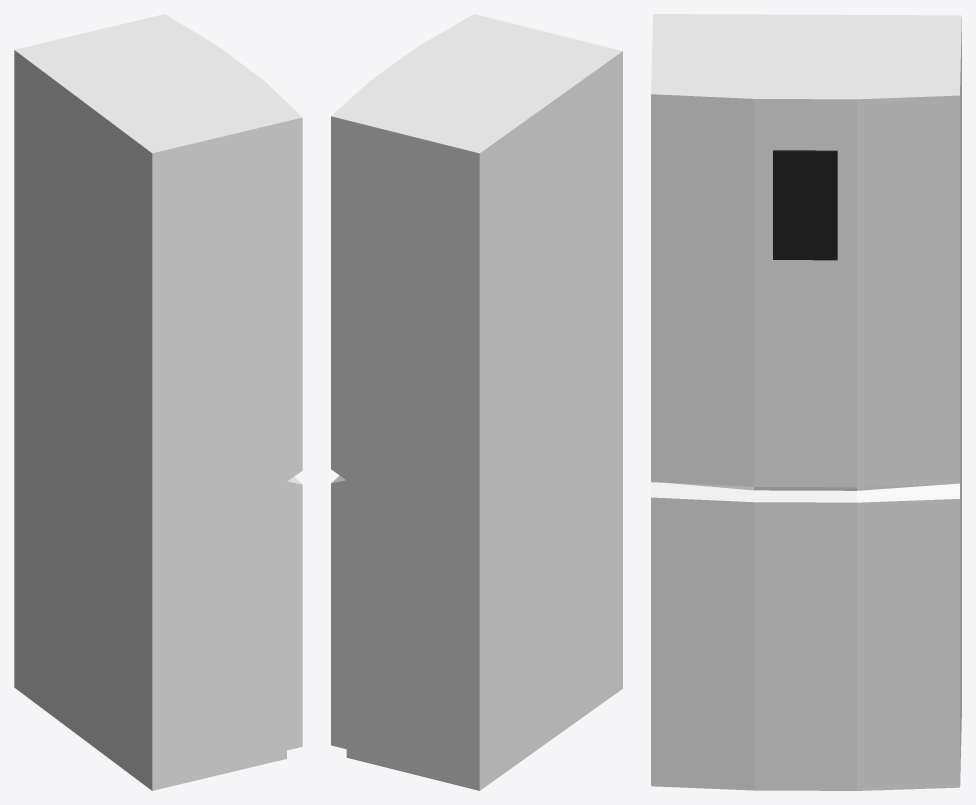
Rendered from Kitchen_Refrigerator.fbx.
The picture shows the model from 3 angles, left to right: view 1: azimuth 30°, elevation 25°; view 2: azimuth 150°, elevation 25°; view 3: azimuth 270°, elevation 25°; orthographic projection. The views are drawn at different scales.
Parts seen in each view (by area): view 1: Kitchen_Refrigerator; view 2: Kitchen_Refrigerator; view 3: Kitchen_Refrigerator.
Boxes of the visible parts, <box> form: Kitchen_Refrigerator: <box>14,14,302,790</box>; Kitchen_Refrigerator: <box>331,14,622,790</box>; Kitchen_Refrigerator: <box>651,14,961,790</box>.
Bounding box in the file's own units: 92.15 × 348 × 140.
